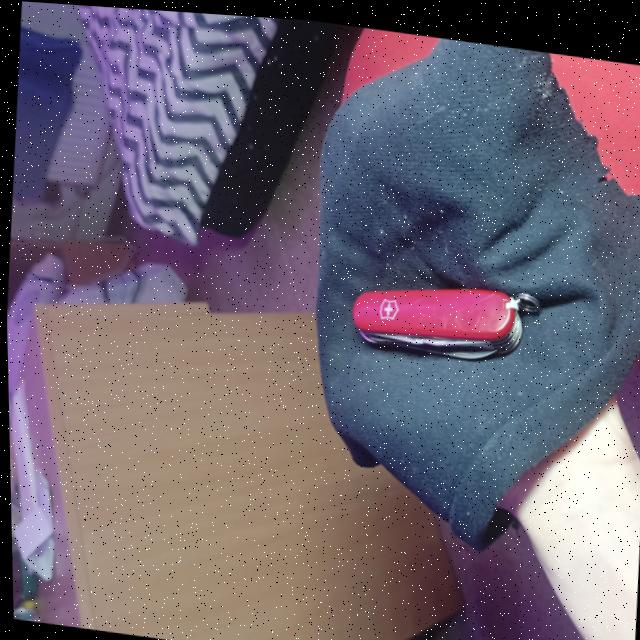knife victorinox: (351, 281, 538, 351)
